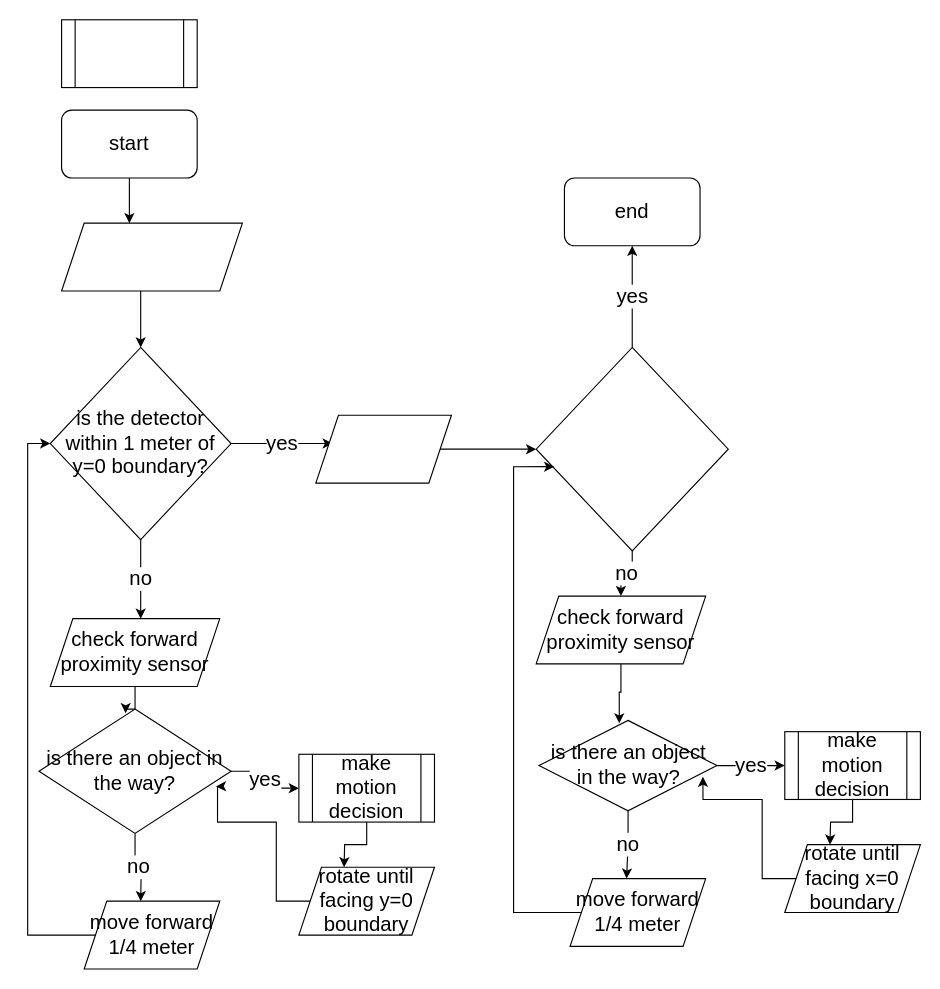
This 940x989 diagram has some shape labels left out. Each missing label, with the centre of its shape:
"is the detector within 1 meter of the x=0 boundary?" belongs at (631,448).
"Return to Origin" belongs at (128,53).
"rotate clockwise 90 degrees" belongs at (383,448).
"Rotate right until pointed backwards" belongs at (151,256).
